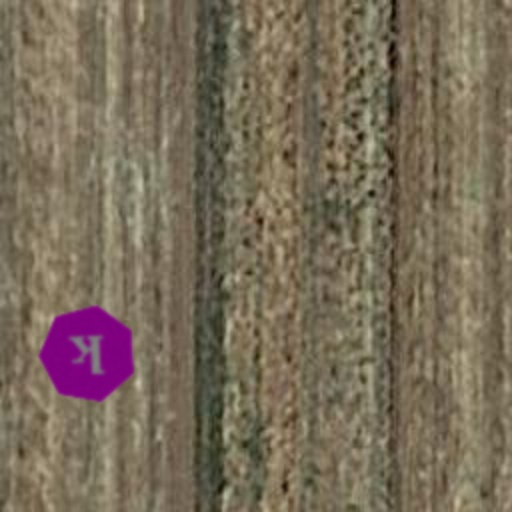heptagon: (34, 300, 142, 408)
